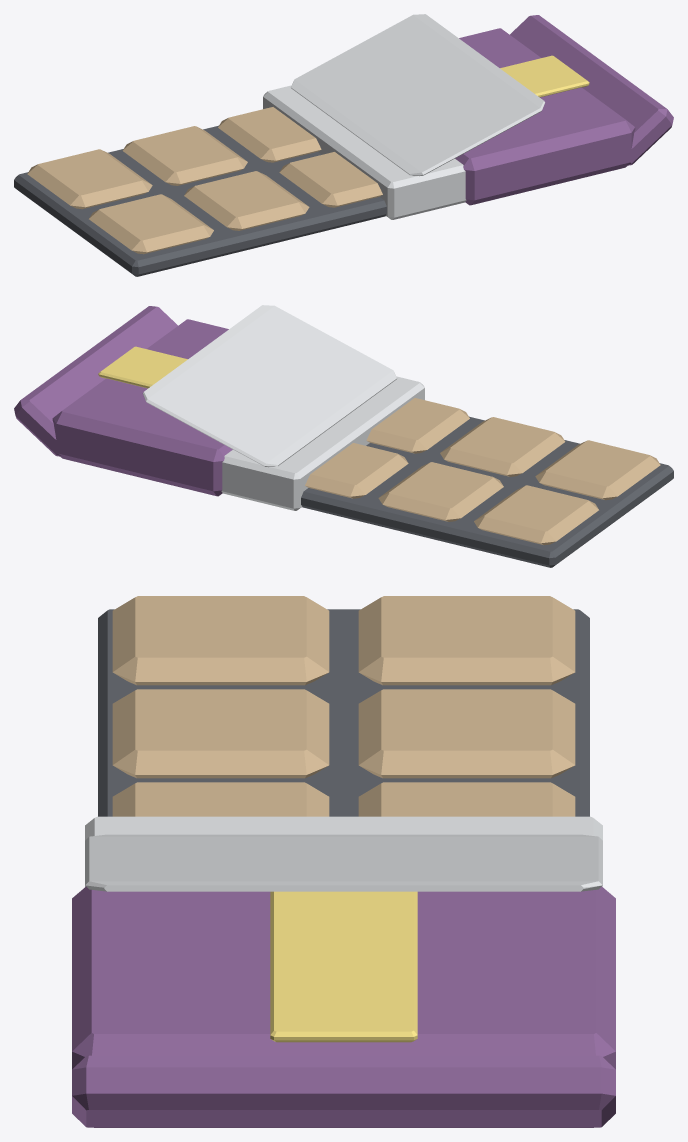
File: fresh-produce-and-groceries-chocolate-bar-792cb80e__24429.glb
3 views of the same model, one above another, from view 1: azimuth 30°, elevation 25°; view 2: azimuth 150°, elevation 25°; view 3: azimuth 270°, elevation 25° (orthographic). The views are drawn at different scales.
Visible parts, largest first — view 1: chocolate-bar; view 2: chocolate-bar; view 3: chocolate-bar.
Boxes of the visible parts, x1,y1,x2,y2 form: chocolate-bar: (14,14,673,276); chocolate-bar: (14,305,673,567); chocolate-bar: (72,596,615,1127).
Bounding box in the file's own units: 0.1914 × 0.0283 × 0.084.
